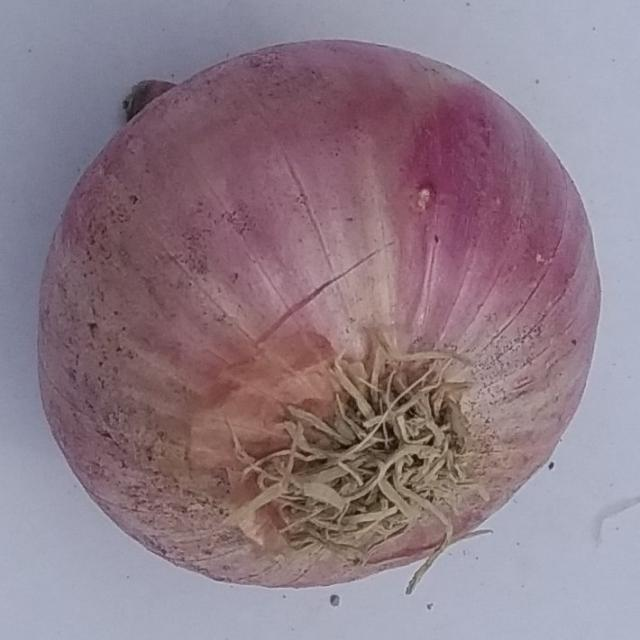onion: (37, 38, 604, 595)
